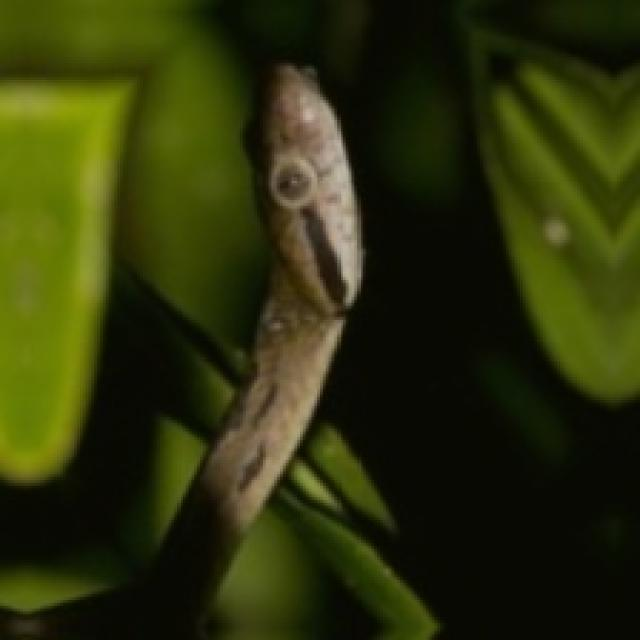dog-toothed cat snake: (0, 63, 360, 637)
